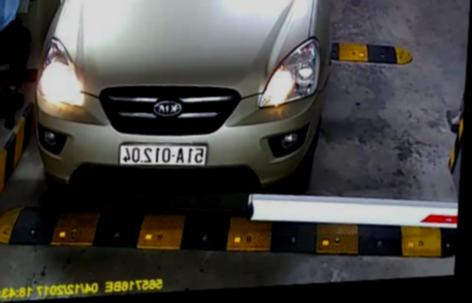License_Plate: (118, 140, 213, 172)
